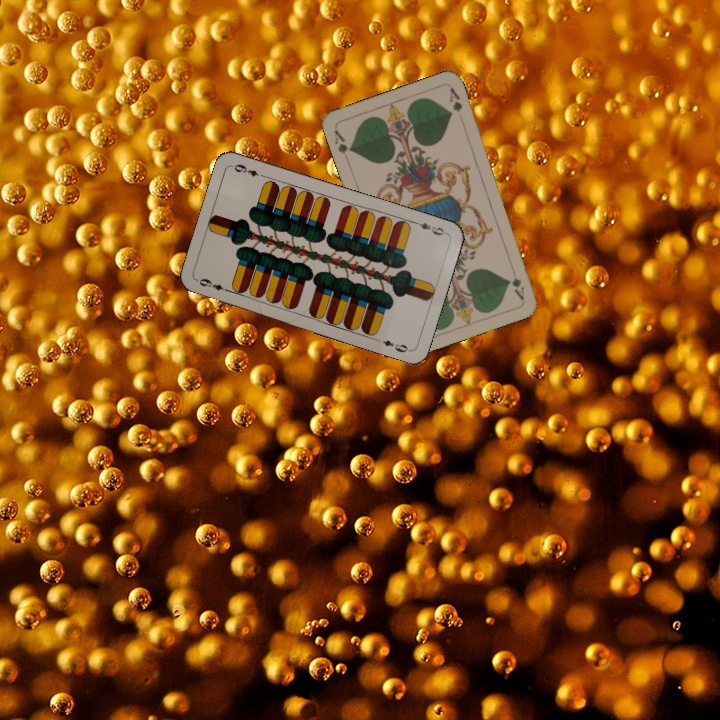E9: (410, 217, 449, 238), (195, 274, 233, 295)
GA: (508, 263, 527, 303), (330, 126, 354, 157)
